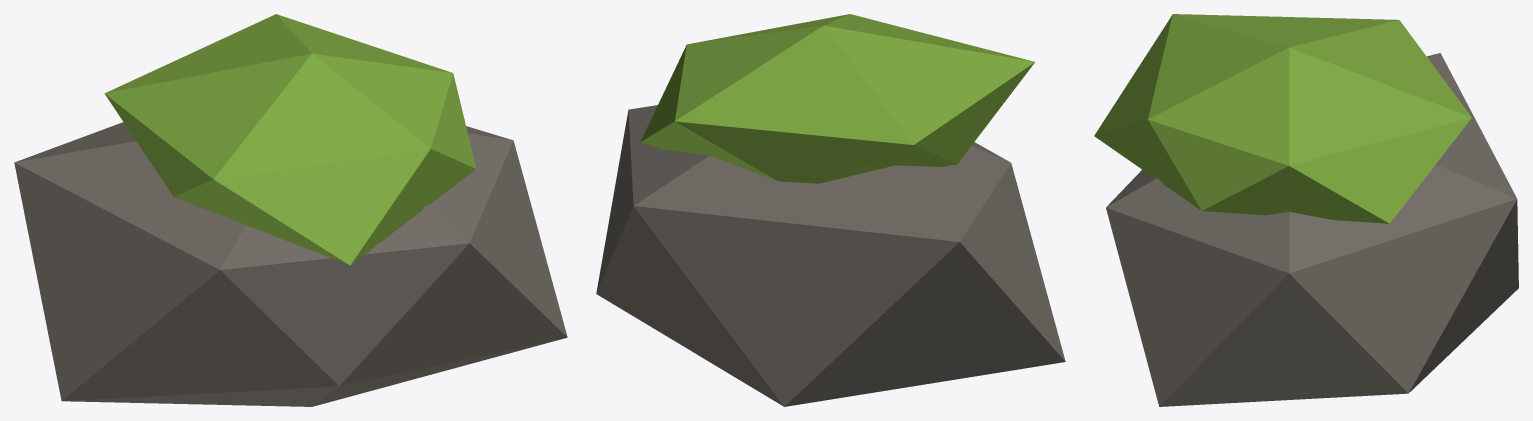
Rendered from HS_LP_Rock_Medium_Moss_02.fbx.
3 views of the same model, side by side, from view 1: azimuth 30°, elevation 25°; view 2: azimuth 150°, elevation 25°; view 3: azimuth 270°, elevation 25° (orthographic). The views are drawn at different scales.
Parts seen in each view (by area): view 1: HS_LP_Rock_Medium_Moss_02; view 2: HS_LP_Rock_Medium_Moss_02; view 3: HS_LP_Rock_Medium_Moss_02.
Part boxes in pixels (x1,y1,x2,y2): HS_LP_Rock_Medium_Moss_02: (14,14,567,406); HS_LP_Rock_Medium_Moss_02: (596,14,1065,406); HS_LP_Rock_Medium_Moss_02: (1094,14,1518,406).
Bounding box in the file's own units: 103 × 76.85 × 86.77.
